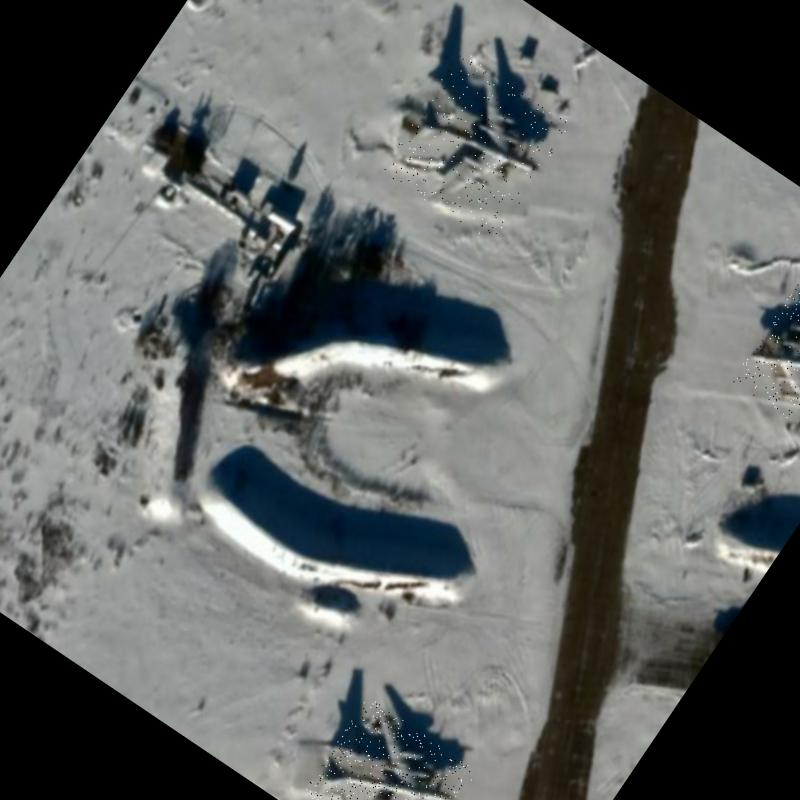A17: (380, 50, 573, 246), (292, 696, 478, 800), (731, 271, 800, 455)
